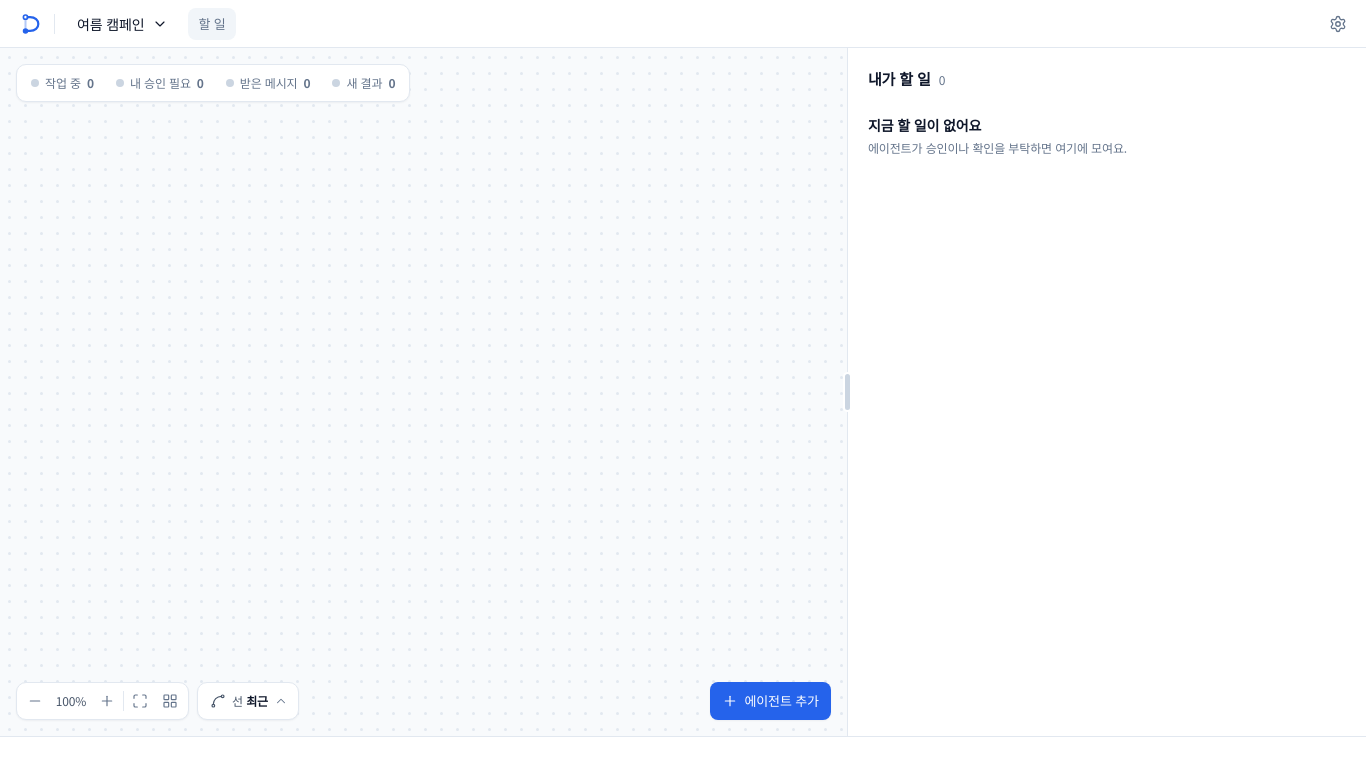
Test: RoomSwitcher — 새 방 › 새 방 — 엔진 오류는 입력칸 아래 그대로, Esc 는 입력만 접는다
Click the button "여름 캠페인": (122, 24) x1=67 y1=8 x2=176 y2=40
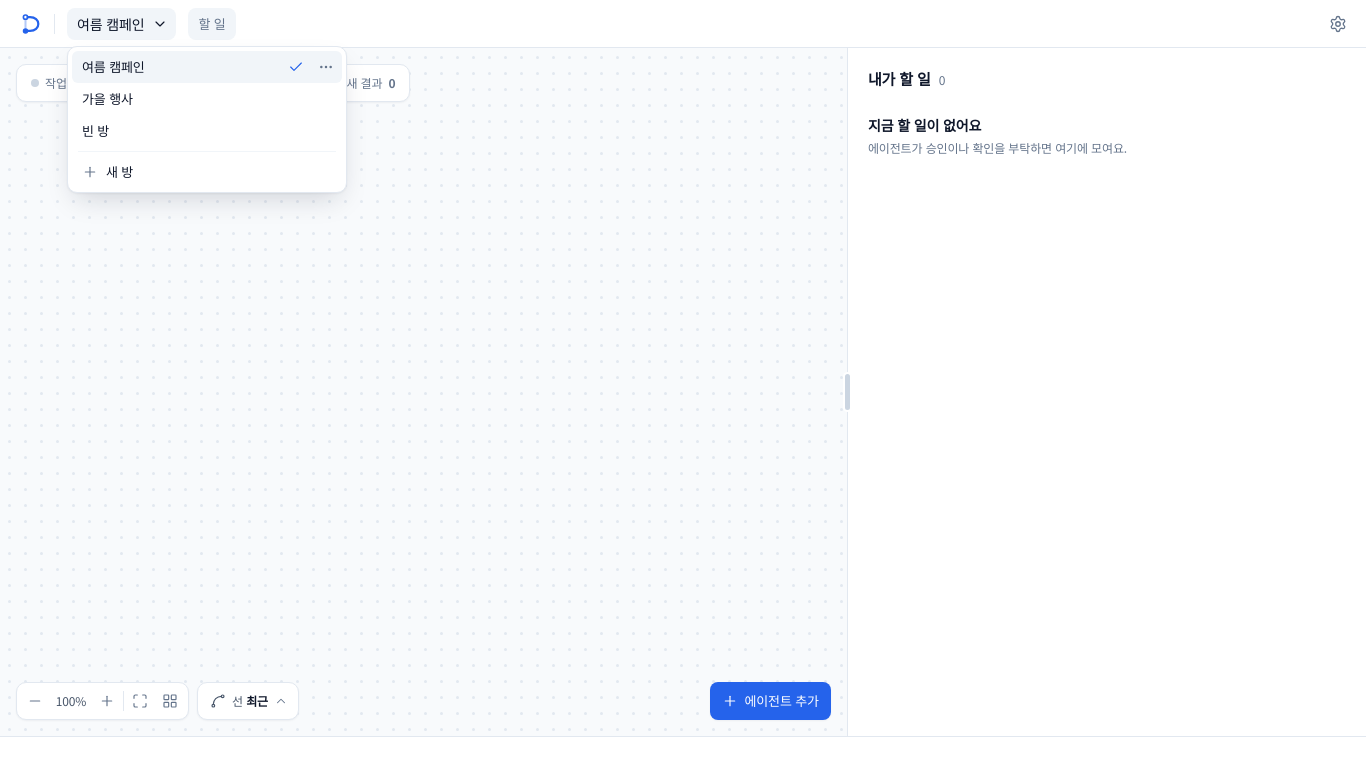
Click the button "새 방": (90, 172) x1=72 y1=156 x2=342 y2=188
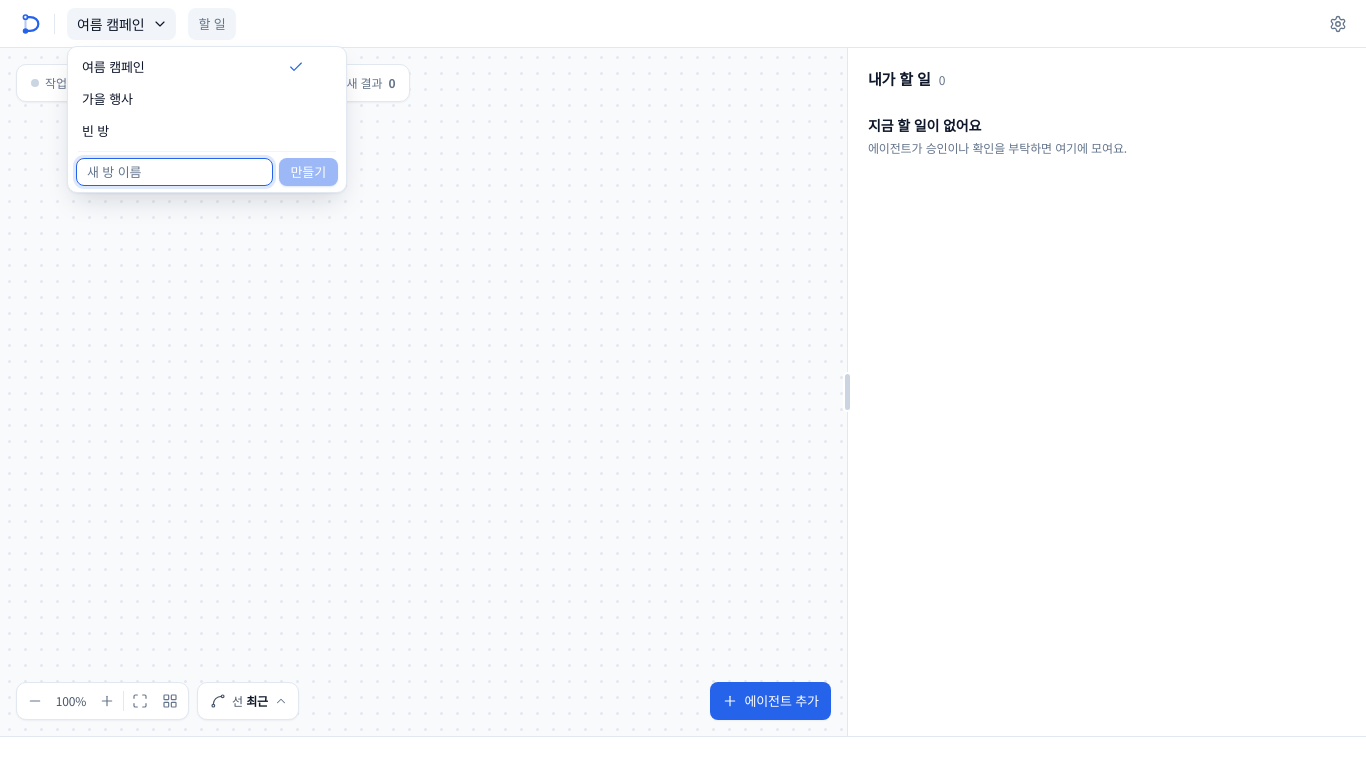
In the field labelled "새 방 이름": (174, 172) x1=76 y1=158 x2=272 y2=186, type "겨울 준비"
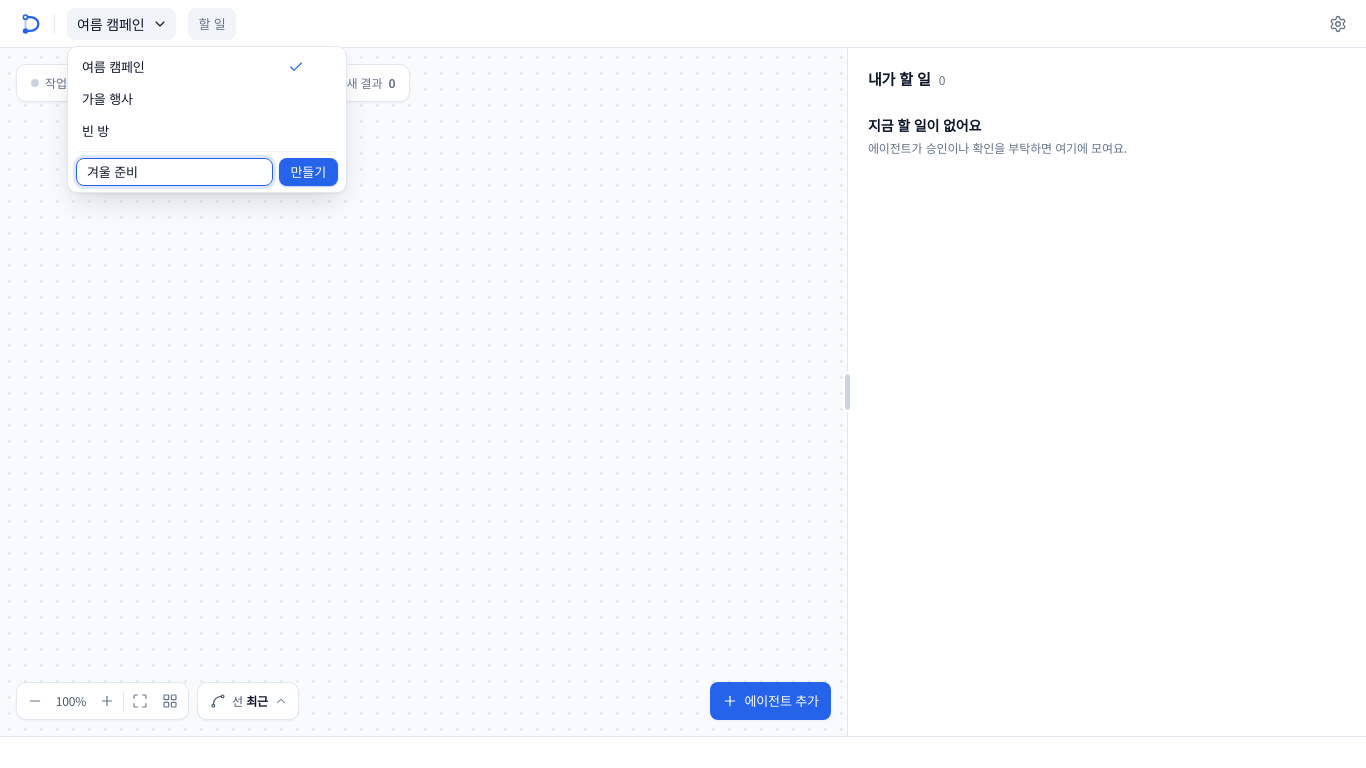
Submit the form named "새 방 이름", box x1=72 y1=156 x2=342 y2=188
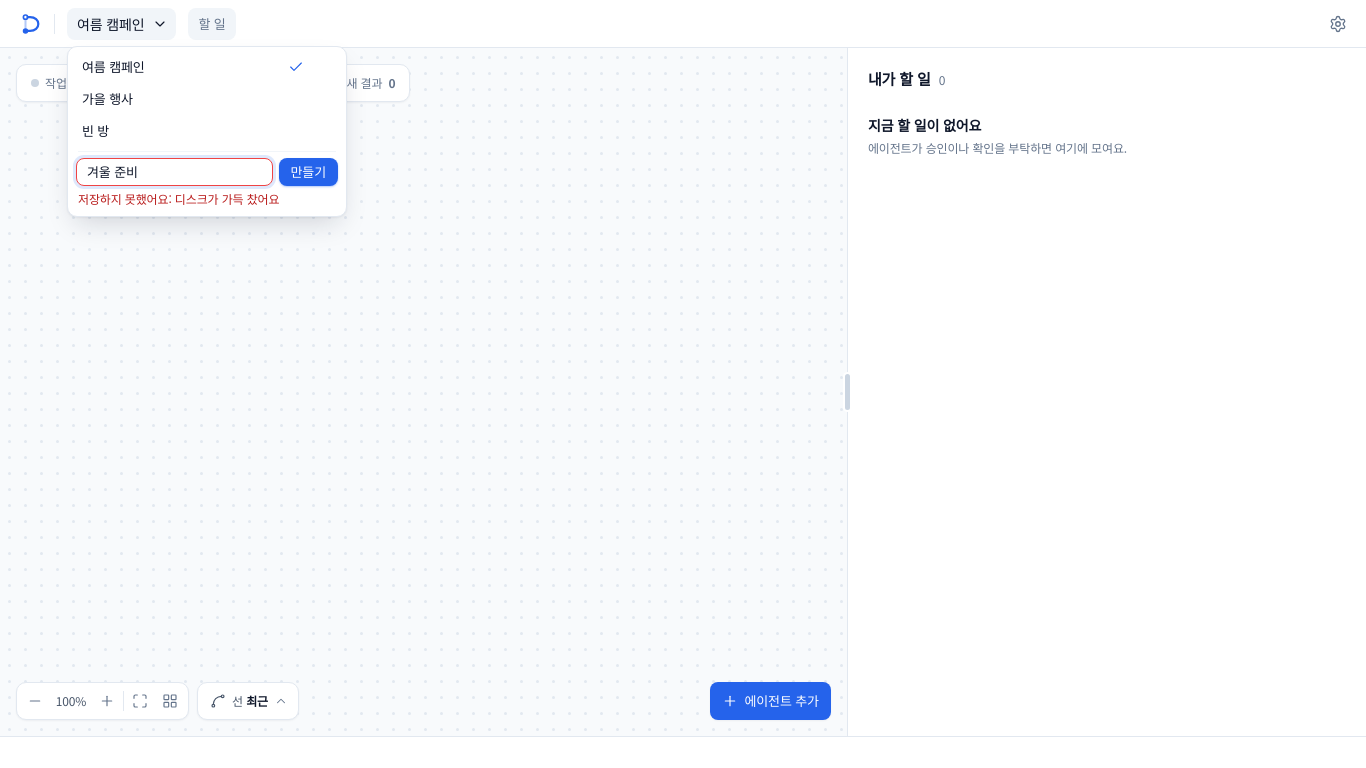
Result: the text "저장하지 못했어요: 디스크가 가득 찼어요" is shown at x1=78 y1=190 x2=279 y2=206
Press Escape in the field named "새 방 이름", box x1=76 y1=158 x2=272 y2=186
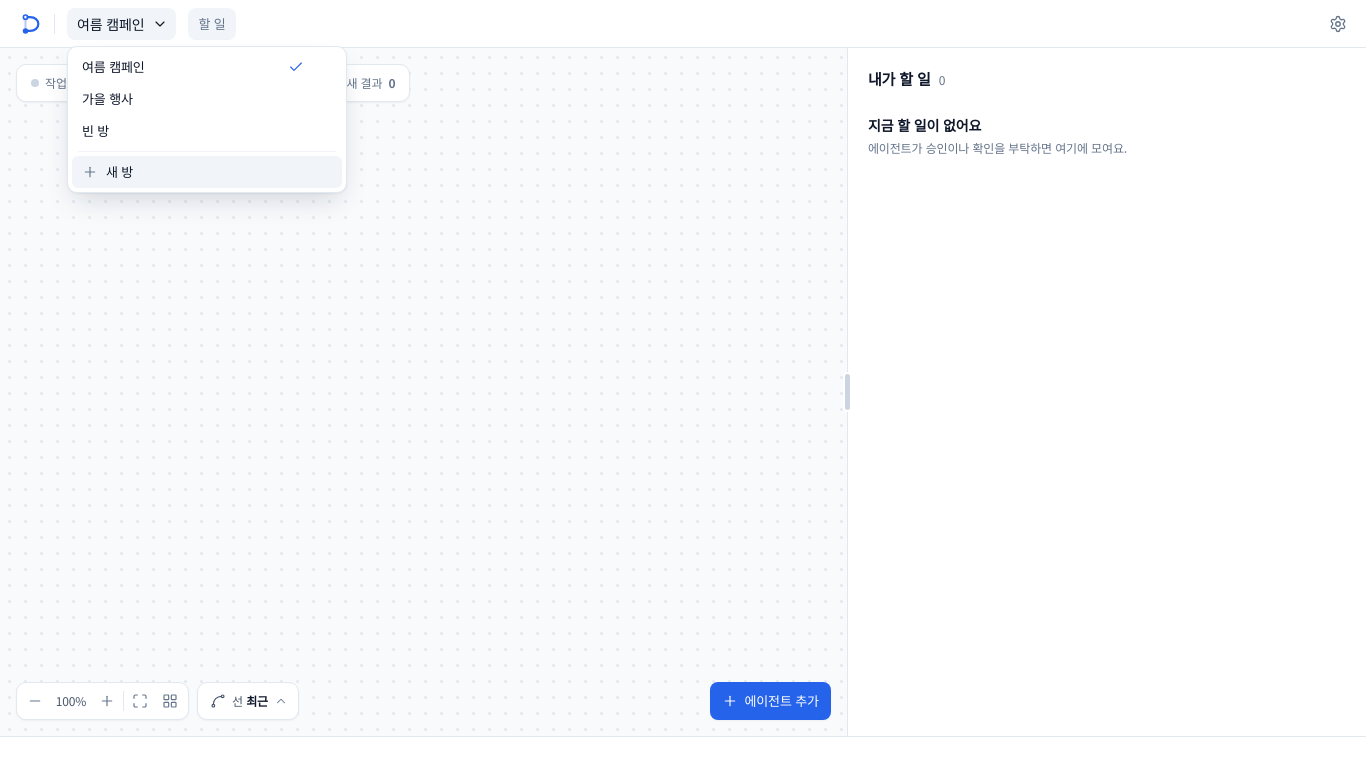
Result: the dialog "방" is shown at x1=67 y1=46 x2=347 y2=192
Result: the field is gone
